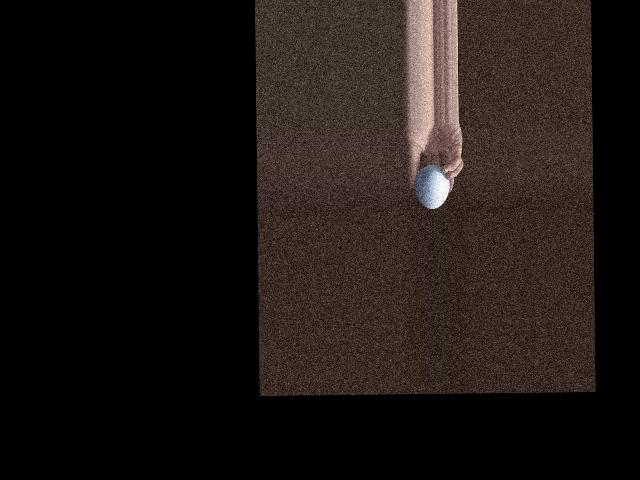egg: (415, 165, 450, 209)
